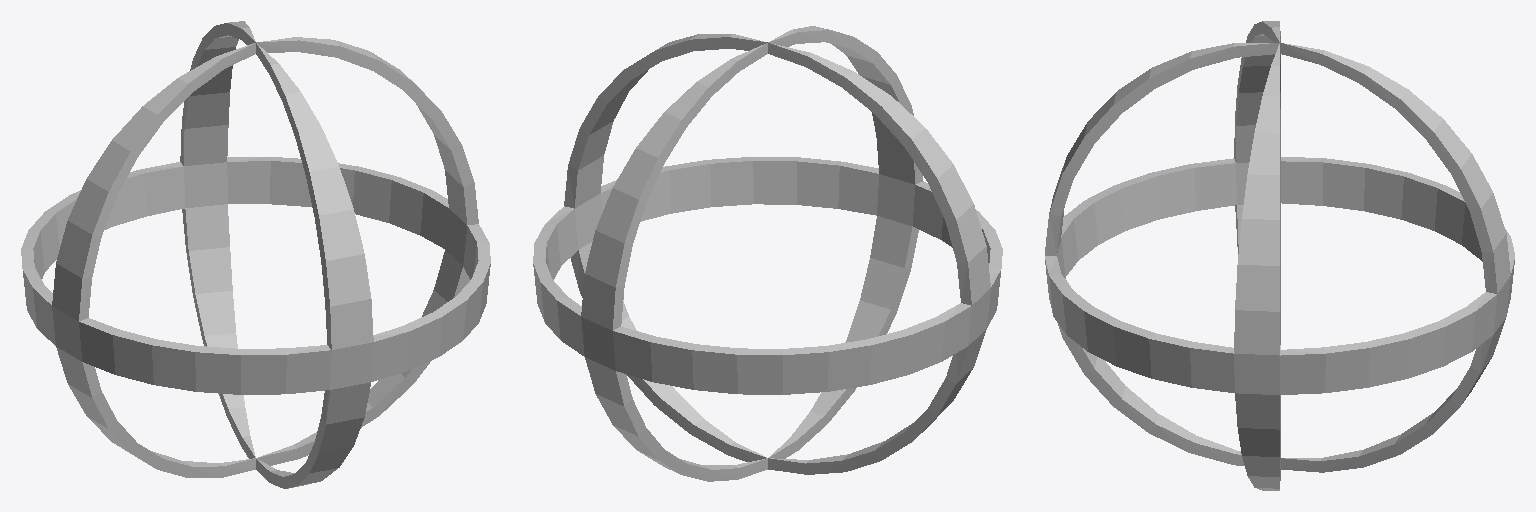
Rendered from pointLight.obj.
3 renders of one model, left to right at view 1: azimuth 30°, elevation 25°; view 2: azimuth 150°, elevation 25°; view 3: azimuth 270°, elevation 25°, orthographic.
Visible parts, largest first — view 1: Sphere.001; view 2: Sphere.001; view 3: Sphere.001.
Boxes of the visible parts, <box> form: Sphere.001: <box>21,21,490,488</box>; Sphere.001: <box>533,26,1002,481</box>; Sphere.001: <box>1045,21,1514,490</box>.
Size of the model in its own units: 2 by 2 by 2.